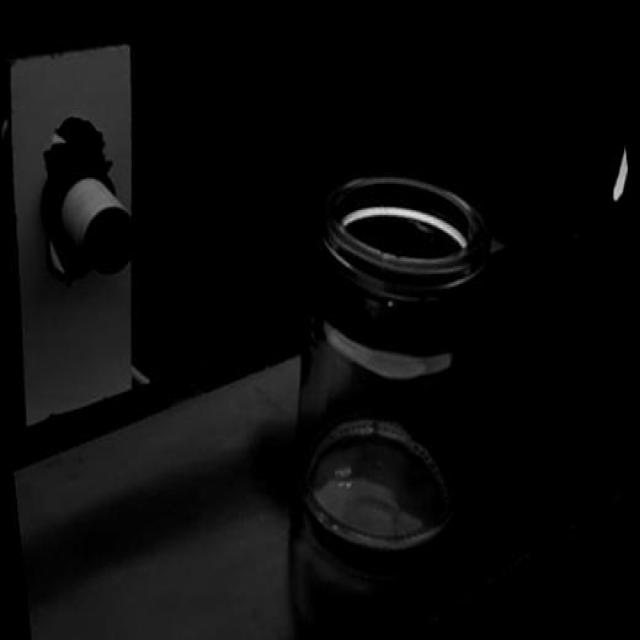defect: (369, 237, 414, 282), (377, 286, 412, 318)
glass: (243, 123, 537, 599)
